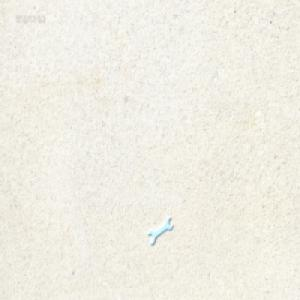Wrench: (147, 218, 171, 247)
